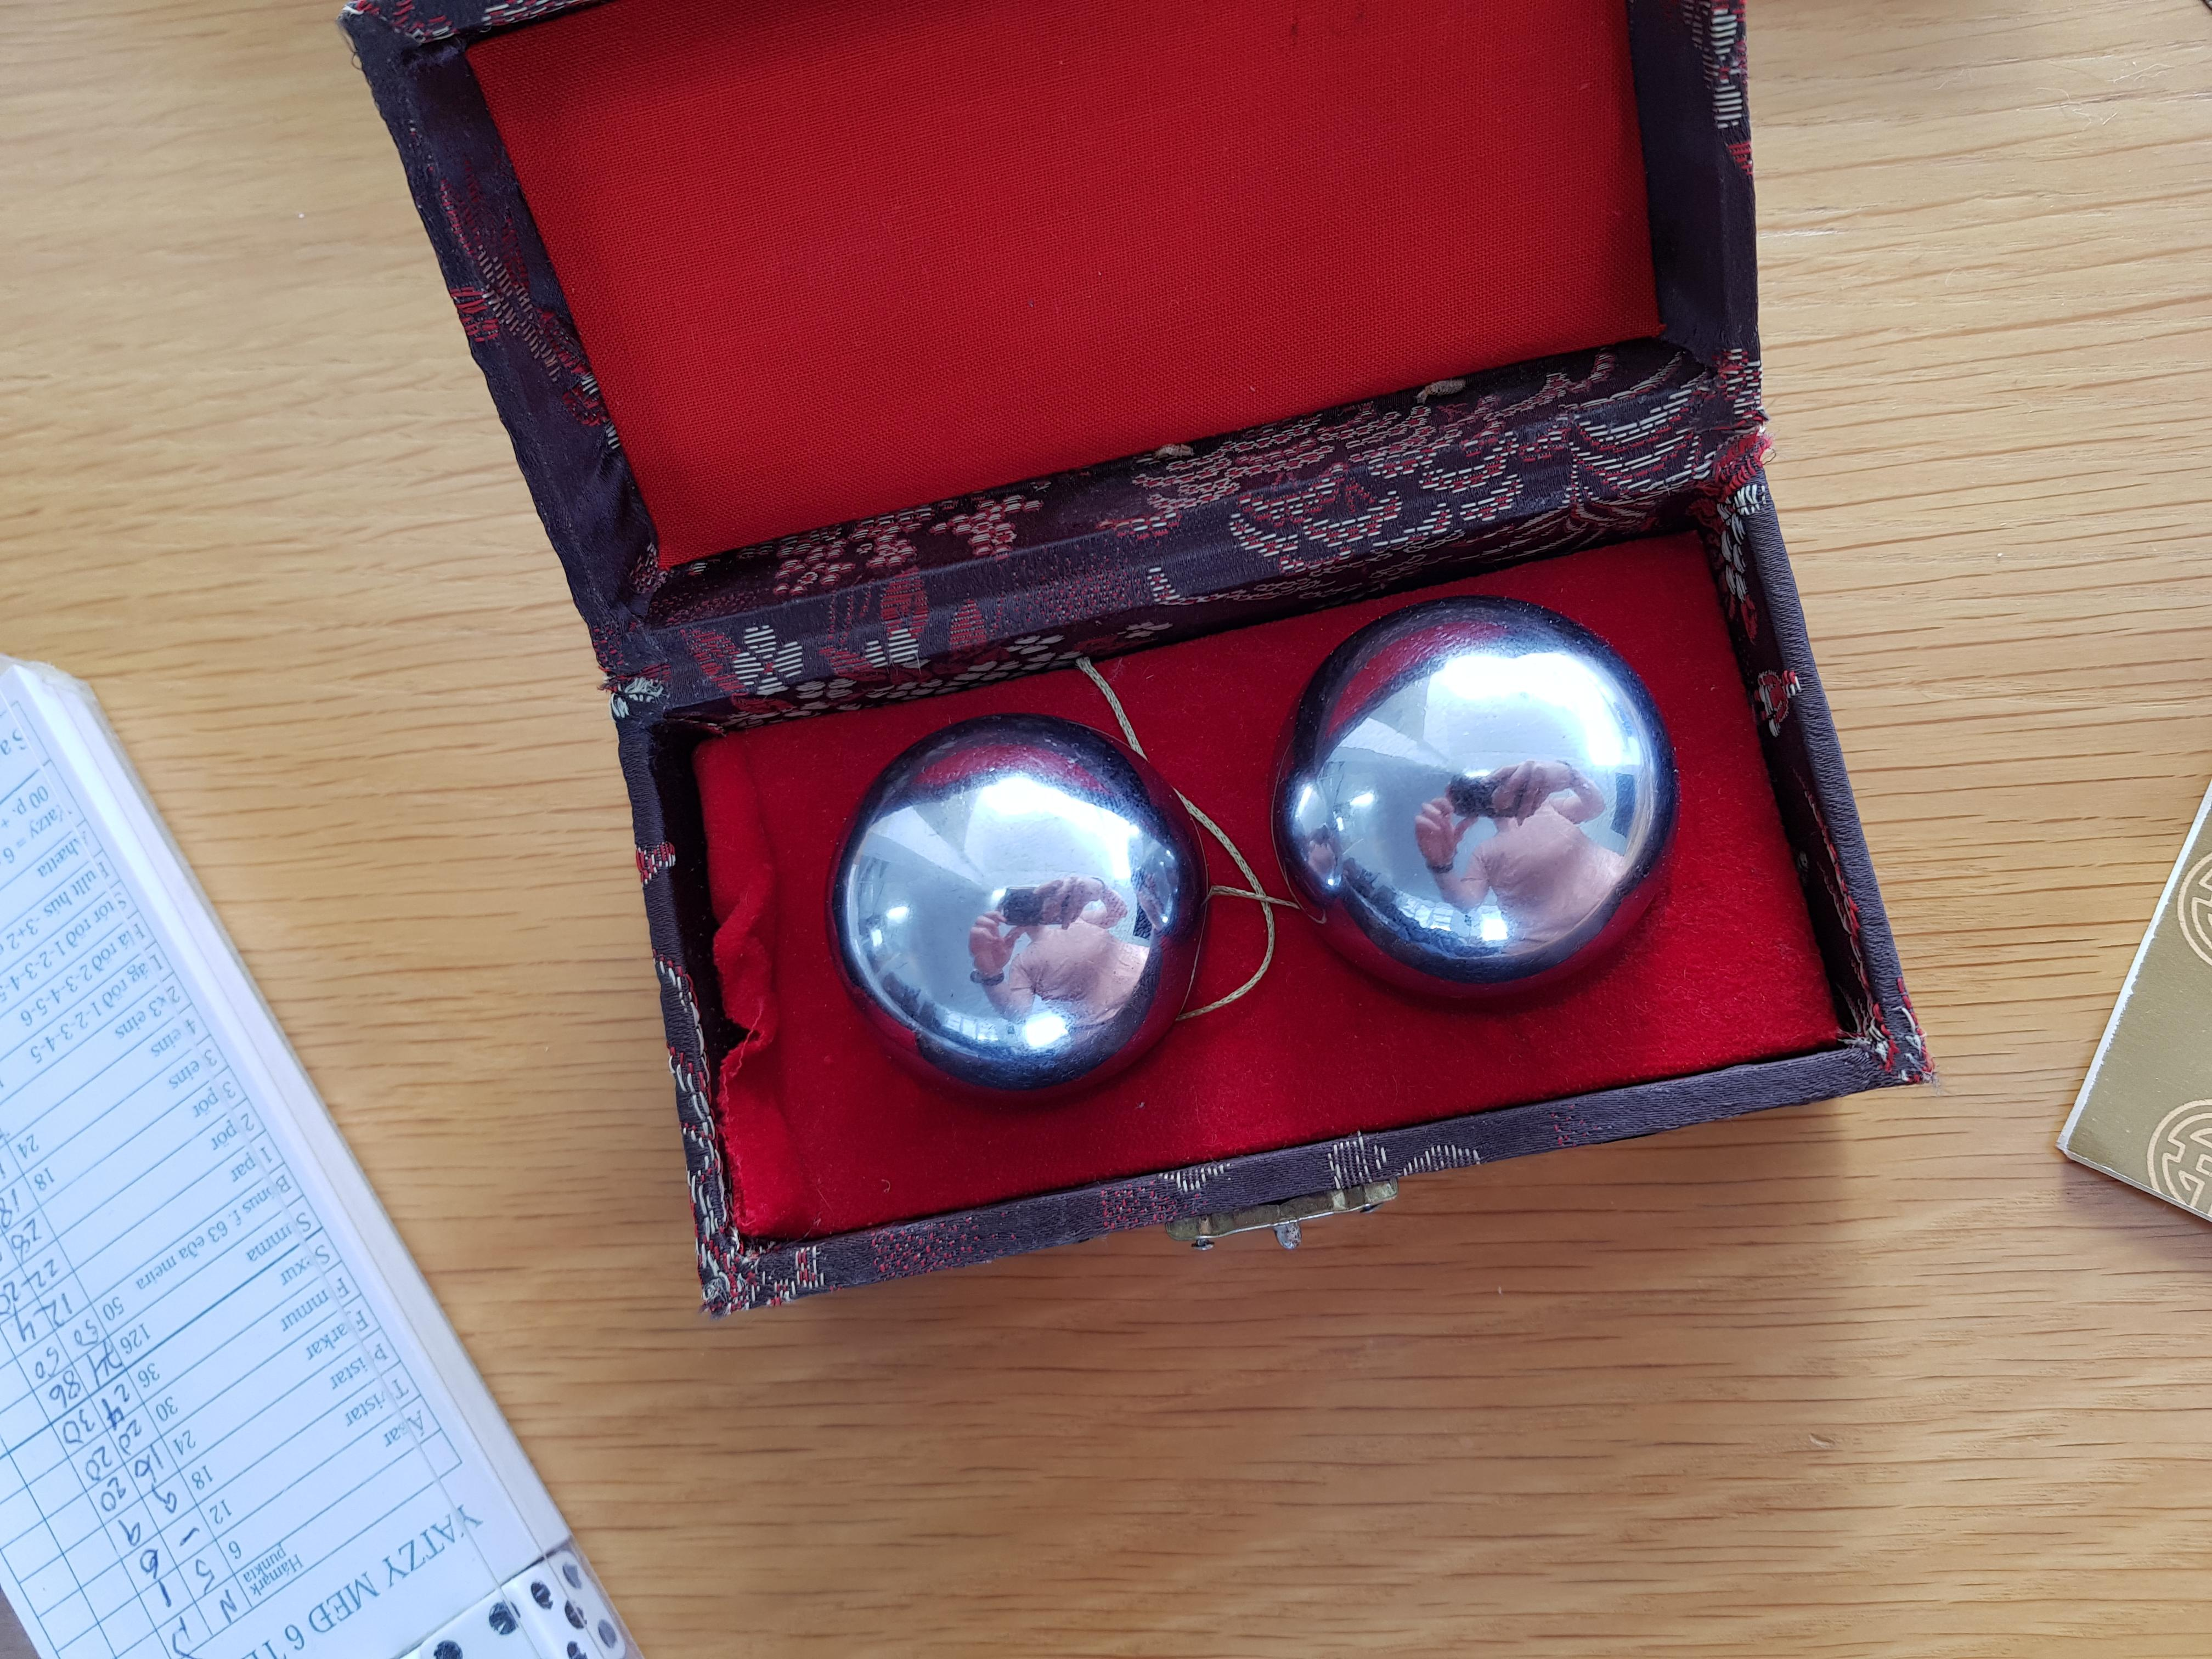Sphere: (1268, 587, 1679, 1000), (817, 709, 1204, 1110)
